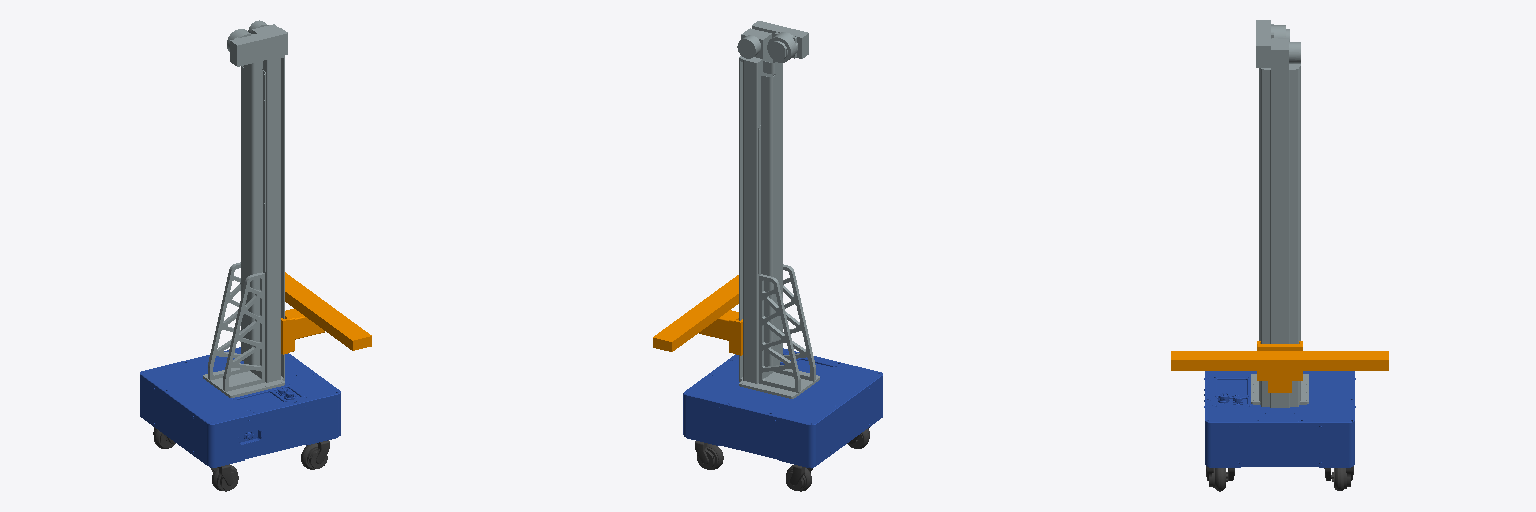
robot.urdf — linearbot:
<!--URDF generated by ONSHAPE BY PTC INC, 1.222-->
<!-- i2rt-port: ONShape export URDF_LinearBot.zip (2026-10-30). Edits: meshes renamed to assets/ and
     decimated; root re-placed so it sits on the ground at the caster centre with +x forward, +y left
     (the flow_base odometry frame; forward is the side the rail holder faces, and the export's motorN
     link names do not follow the base's CAN ids); dof_joint9 renamed linear_rail
     with its axis flipped to +z so q equals the rail height in m (0 = home at the lower limit); the
     carriage's two mate connectors renamed left_arm_mount / right_arm_mount and turned so each is an
     arm base frame (+x forward, +z up). linearbot.xml is generated from this file by MuJoCo. -->
<robot name="linearbot">
    <mujoco>
        <compiler strippath="false" discardvisual="false" fusestatic="false" />
    </mujoco>
    <link name="base">
        <inertial>
            <mass value="30.5" />
            <origin xyz="-0.204712 -0.397277 0.100926" rpy="0 -0 0" />
            <inertia ixx="0.00124924" ixy="-2.28092e-06" ixz="1.02377e-06" iyy="0.00112159" iyz="-4.75916e-08" izz="0.00215316" />
        </inertial>
        <visual>
            <origin xyz="0 0 0" rpy="0 -0 0" />
            <geometry>
                <mesh filename="assets/base.stl" scale="1 1 1" />
            </geometry>
            <material name="0.231373_0.380392_0.705882_0.000000_0.000000">
                <color rgba="0.231373 0.380392 0.705882 1" />
            </material>
        </visual>
    </link>
    <link name="linear_lift">
        <inertial>
            <mass value="15.6919" />
            <origin xyz="-0.0928257 0.025603 0.679073" rpy="0 -0 0" />
            <inertia ixx="2.83892" ixy="0.00243351" ixz="0.0255629" iyy="2.83505" iyz="0.00457602" izz="0.0574717" />
        </inertial>
        <visual>
            <origin xyz="0.10975 0.4301 -0.205" rpy="0 -0 0" />
            <geometry>
                <mesh filename="assets/linear_lift.stl" scale="1 1 1" />
            </geometry>
            <material name="0.611765_0.658824_0.670588_0.000000_0.000000">
                <color rgba="0.611765 0.658824 0.670588 1" />
            </material>
        </visual>
    </link>
    <link name="linear_lift_holder">
        <inertial>
            <mass value="10.9916" />
            <origin xyz="0 -0.11133 0.100839" rpy="0 -0 0" />
            <inertia ixx="0.0471126" ixy="0" ixz="0" iyy="0.320505" iyz="0.0116878" izz="0.338052" />
        </inertial>
        <visual>
            <origin xyz="0.200004 0.455 -0.891366" rpy="0 -0 0" />
            <geometry>
                <mesh filename="assets/linear_lift_holder.stl" scale="1 1 1" />
            </geometry>
            <material name="1.000000_0.600000_0.000000_0.000000_0.000000">
                <color rgba="1 0.6 0 1" />
            </material>
        </visual>
    </link>
    <link name="motor1">
        <inertial>
            <mass value="0.124913" />
            <origin xyz="0.00752727 -0.00894052 -0.0457794" rpy="0 -0 0" />
            <inertia ixx="0.000144977" ixy="1.16688e-05" ixz="3.03383e-05" iyy="0.000223623" iyz="-3.18847e-05" izz="0.000144648" />
        </inertial>
        <visual>
            <origin xyz="2.47253e-16 0.196 0.011" rpy="0 -0 0" />
            <geometry>
                <mesh filename="assets/motor1.stl" scale="1 1 1" />
            </geometry>
            <material name="0.298039_0.298039_0.298039_0.000000_0.000000">
                <color rgba="0.298039 0.298039 0.298039 1" />
            </material>
        </visual>
    </link>
    <link name="motor2">
        <inertial>
            <mass value="0.297603" />
            <origin xyz="-0.0241102 1.66533e-16 1.11022e-16" rpy="0 -0 0" />
            <inertia ixx="0.00031015" ixy="0" ixz="0" iyy="0.000200747" iyz="0" izz="0.000200747" />
        </inertial>
        <visual>
            <origin xyz="-0.0252 0.216 0.086" rpy="0 -0 0" />
            <geometry>
                <mesh filename="assets/motor2.stl" scale="1 1 1" />
            </geometry>
            <material name="0.298039_0.298039_0.298039_0.000000_0.000000">
                <color rgba="0.298039 0.298039 0.298039 1" />
            </material>
        </visual>
    </link>
    <link name="motor3">
        <inertial>
            <mass value="0.126813" />
            <origin xyz="0.00785058 0.00895171 -0.0459157" rpy="0 -0 0" />
            <inertia ixx="0.000146369" ixy="-1.16506e-05" ixz="3.05982e-05" iyy="0.000225439" iyz="3.22026e-05" izz="0.000145865" />
        </inertial>
        <visual>
            <origin xyz="1.99348e-16 0.596 0.011" rpy="0 -0 0" />
            <geometry>
                <mesh filename="assets/motor3.stl" scale="1 1 1" />
            </geometry>
            <material name="0.298039_0.298039_0.298039_0.000000_0.000000">
                <color rgba="0.298039 0.298039 0.298039 1" />
            </material>
        </visual>
    </link>
    <link name="motor4">
        <inertial>
            <mass value="0.298689" />
            <origin xyz="-0.0228248 0.00057186 0.000419668" rpy="0 -0 0" />
            <inertia ixx="0.000318426" ixy="5.45543e-07" ixz="4.00354e-07" iyy="0.000204289" iyz="-2.62425e-08" izz="0.000204306" />
        </inertial>
        <visual>
            <origin xyz="-0.0249502 0.576707 0.0865185" rpy="0 -0 0" />
            <geometry>
                <mesh filename="assets/motor4.stl" scale="1 1 1" />
            </geometry>
            <material name="0.298039_0.298039_0.298039_0.000000_0.000000">
                <color rgba="0.298039 0.298039 0.298039 1" />
            </material>
        </visual>
    </link>
    <link name="motor5">
        <inertial>
            <mass value="0.124913" />
            <origin xyz="-0.00752727 0.00894052 -0.0417794" rpy="0 -0 0" />
            <inertia ixx="0.000144977" ixy="1.16688e-05" ixz="-3.03383e-05" iyy="0.000223623" iyz="3.18847e-05" izz="0.000144648" />
        </inertial>
        <visual>
            <origin xyz="0.4 0.596 0.015" rpy="0 -0 0" />
            <geometry>
                <mesh filename="assets/motor5.stl" scale="1 1 1" />
            </geometry>
            <material name="0.298039_0.298039_0.298039_0.000000_0.000000">
                <color rgba="0.298039 0.298039 0.298039 1" />
            </material>
        </visual>
    </link>
    <link name="motor6">
        <inertial>
            <mass value="0.297603" />
            <origin xyz="0.0241102 -1.11022e-16 2.77556e-16" rpy="0 -0 0" />
            <inertia ixx="0.00031015" ixy="0" ixz="0" iyy="0.000200747" iyz="0" izz="0.000200747" />
        </inertial>
        <visual>
            <origin xyz="0.4252 0.576 0.086" rpy="0 -0 0" />
            <geometry>
                <mesh filename="assets/motor6.stl" scale="1 1 1" />
            </geometry>
            <material name="0.298039_0.298039_0.298039_0.000000_0.000000">
                <color rgba="0.298039 0.298039 0.298039 1" />
            </material>
        </visual>
    </link>
    <link name="motor7">
        <inertial>
            <mass value="0.126813" />
            <origin xyz="-0.00785058 -0.00895171 -0.0419157" rpy="0 -0 0" />
            <inertia ixx="0.000146369" ixy="-1.16506e-05" ixz="-3.05982e-05" iyy="0.000225439" iyz="-3.22026e-05" izz="0.000145865" />
        </inertial>
        <visual>
            <origin xyz="0.4 0.196 0.015" rpy="0 -0 0" />
            <geometry>
                <mesh filename="assets/motor7.stl" scale="1 1 1" />
            </geometry>
            <material name="0.298039_0.298039_0.298039_0.000000_0.000000">
                <color rgba="0.298039 0.298039 0.298039 1" />
            </material>
        </visual>
    </link>
    <link name="motor8">
        <inertial>
            <mass value="0.298689" />
            <origin xyz="0.0228248 -0.00057186 0.000419668" rpy="0 -0 0" />
            <inertia ixx="0.000318426" ixy="5.45543e-07" ixz="-4.00354e-07" iyy="0.000204289" iyz="2.62425e-08" izz="0.000204306" />
        </inertial>
        <visual>
            <origin xyz="0.42495 0.215293 0.0865185" rpy="0 -0 0" />
            <geometry>
                <mesh filename="assets/motor8.stl" scale="1 1 1" />
            </geometry>
            <material name="0.298039_0.298039_0.298039_0.000000_0.000000">
                <color rgba="0.298039 0.298039 0.298039 1" />
            </material>
        </visual>
    </link>
    <link name="root" />
    <link name="left_arm_mount">
        <inertial>
            <mass value="1e-09" />
            <origin xyz="0 0 0" rpy="0 -0 0" />
            <inertia ixx="4e-14" ixy="0" ixz="0" iyy="4e-14" iyz="0" izz="4e-14" />
        </inertial>
    </link>
    <link name="right_arm_mount">
        <inertial>
            <mass value="1e-09" />
            <origin xyz="0 0 0" rpy="0 -0 0" />
            <inertia ixx="4e-14" ixy="0" ixz="0" iyy="4e-14" iyz="0" izz="4e-14" />
        </inertial>
    </link>
    <joint name="dof_joint1" type="continuous">
        <origin xyz="-0.407 -0.599 0.01" rpy="0 -0 0" />
        <axis xyz="-0 -0 1" />
        <parent link="base" />
        <child link="motor5" />
    </joint>
    <joint name="dof_joint2" type="continuous">
        <origin xyz="-0.0252 0.02 -0.071" rpy="2.22045e-16 -1.77226e-16 4.03587e-16" />
        <axis xyz="-1 3.54987e-30 0" />
        <parent link="motor5" />
        <child link="motor6" />
    </joint>
    <joint name="dof_joint3" type="continuous">
        <origin xyz="-0.407 -0.196 0.01" rpy="0 -0 0" />
        <axis xyz="-0 -0 1" />
        <parent link="base" />
        <child link="motor7" />
    </joint>
    <joint name="dof_joint4" type="continuous">
        <origin xyz="-0.0249502 -0.02 -0.071" rpy="-5.27356e-16 1.32471e-16 -9.02817e-16" />
        <axis xyz="-1 0 0" />
        <parent link="motor7" />
        <child link="motor8" />
    </joint>
    <joint name="dof_joint5" type="continuous">
        <origin xyz="1.38778e-15 -0.196 0.014" rpy="0 -0 0" />
        <axis xyz="0 0 1" />
        <parent link="base" />
        <child link="motor1" />
    </joint>
    <joint name="dof_joint6" type="continuous">
        <origin xyz="0.0252 -0.02 -0.075" rpy="-2.61979e-35 -1.63266e-17 1.09421e-18" />
        <axis xyz="1 -3.54987e-30 0" />
        <parent link="motor1" />
        <child link="motor2" />
    </joint>
    <joint name="dof_joint7" type="continuous">
        <origin xyz="1.04083e-14 -0.599 0.014" rpy="0 -0 0" />
        <axis xyz="0 0 1" />
        <parent link="base" />
        <child link="motor3" />
    </joint>
    <joint name="dof_joint8" type="continuous">
        <origin xyz="0.0249502 0.02 -0.075" rpy="8.32667e-17 -6.84061e-18 -2.77892e-17" />
        <axis xyz="1 0 0" />
        <parent link="motor3" />
        <child link="motor4" />
    </joint>
    <joint name="linear_rail" type="prismatic">
        <origin xyz="-0.09025 -0.0249001 0.11" rpy="0 -0 9.10797e-104" />
        <axis xyz="0 0 1" />
        <parent link="linear_lift" />
        <child link="linear_lift_holder" />
        <limit effort="1" velocity="1" lower="0" upper="1" />
    </joint>
    <joint name="fixed_node_to_root_joint" type="fixed">
        <origin xyz="0.3975 -0.2035 0.111" rpy="0 0 -1.5707963267948966" />
        <axis xyz="0 0 1" />
        <parent link="root" />
        <child link="base" />
    </joint>
    <joint name="紧固_1" type="fixed">
        <origin xyz="-0.29425 -0.282479 0.185" rpy="3.08888e-74 -1.47432e-30 3.14159" />
        <axis xyz="-0 -0 -1" />
        <parent link="base" />
        <child link="linear_lift" />
    </joint>
    <joint name="left_arm_mount" type="fixed">
        <origin xyz="0.305 -0.141 0.14575" rpy="0 0 -1.5707963267948966" />
        <axis xyz="0 0 1" />
        <parent link="linear_lift_holder" />
        <child link="left_arm_mount" />
    </joint>
    <joint name="right_arm_mount" type="fixed">
        <origin xyz="-0.305 -0.141 0.14575" rpy="0 0 -1.5707963267948966" />
        <axis xyz="0 0 1" />
        <parent link="linear_lift_holder" />
        <child link="right_arm_mount" />
    </joint>
</robot>

--- What the picture shows (computed from the rendered views, not written in the file) ---
Views: 3 orthographic renders of the robot side by side, from view 1: azimuth 30°, elevation 25°; view 2: azimuth 150°, elevation 25°; view 3: azimuth 270°, elevation 25°.
Robot: linearbot — 14 links, 13 joints (8 continuous, 1 prismatic, 4 fixed); root link root; default pose: every joint at zero.
Links seen in each view (by area): view 1: linear_lift, base, linear_lift_holder; view 2: linear_lift, base, linear_lift_holder; view 3: linear_lift, base, linear_lift_holder.
Link boxes in pixels (x1,y1,x2,y2): linear_lift: (203,20,287,397); base: (140,347,340,467); linear_lift_holder: (281,272,371,354); linear_lift: (737,21,819,398); base: (683,348,882,468); linear_lift_holder: (653,275,742,355); linear_lift: (1251,20,1308,407); base: (1204,371,1355,467); linear_lift_holder: (1171,341,1388,392).
Size in the robot's own frame: 0.5934 by 0.745 by 1.66 metres.
11 mesh visuals loaded from 11 distinct referenced files (11 binary STL).
